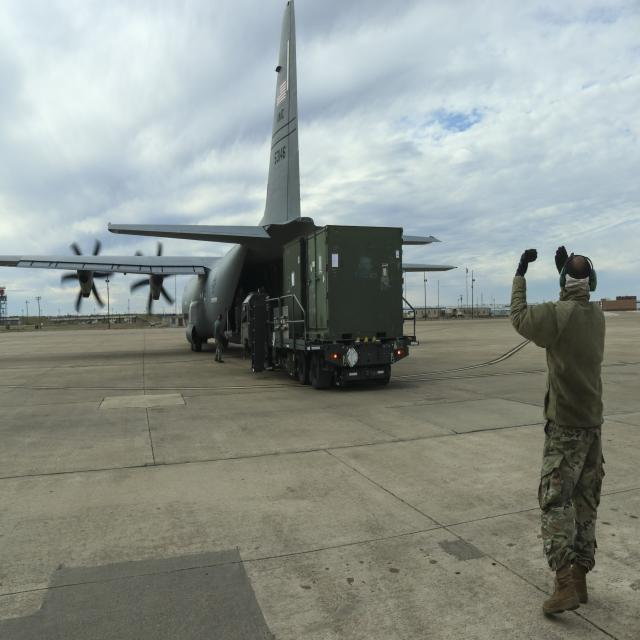MIL_Plane: (2, 0, 457, 353)
